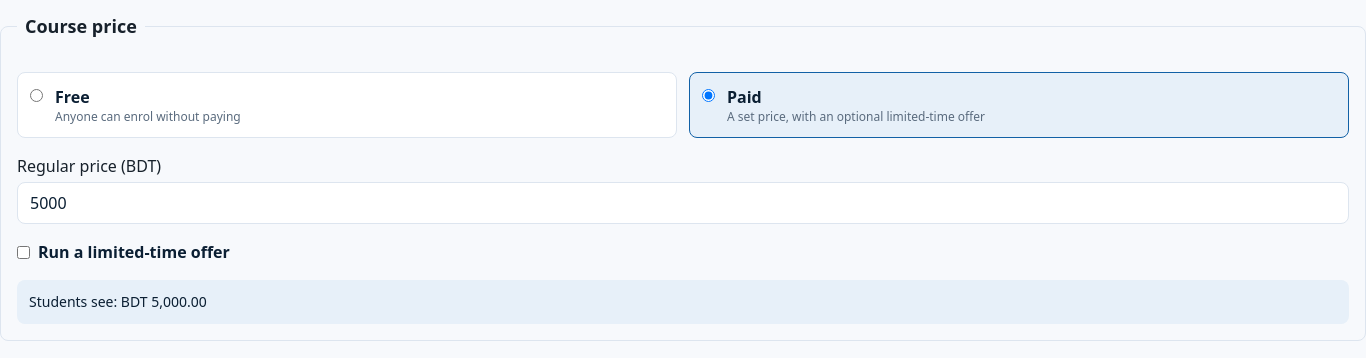
Test: CoursePricingFields › makes a course free
The width and height of the screenshot is (1366, 358).
Click the radio button labelled "Free Anyone can enrol without paying". click: [36, 96]
box: [30, 89, 43, 102]
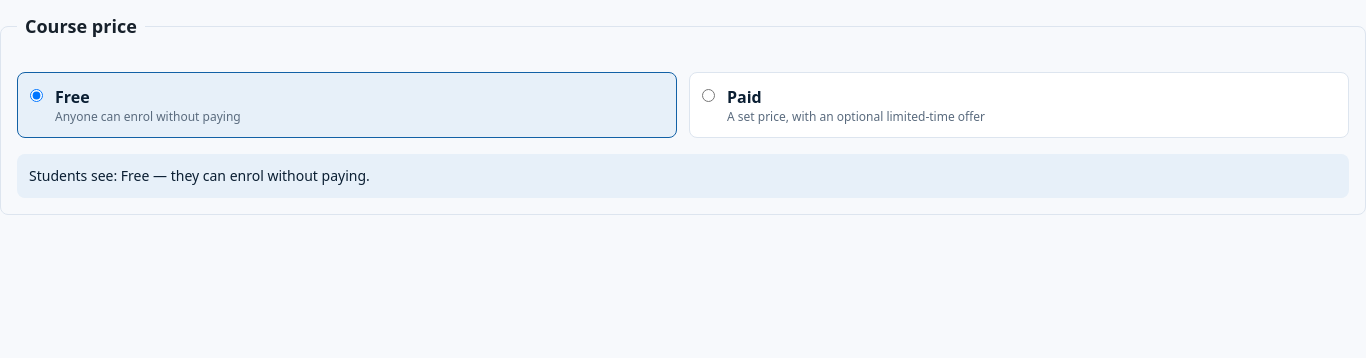
Expected: the label labelled "Regular price (BDT)" is gone
Expected: the text "Students see: Free — they can enrol without paying." is shown, [17, 154, 1349, 198]
